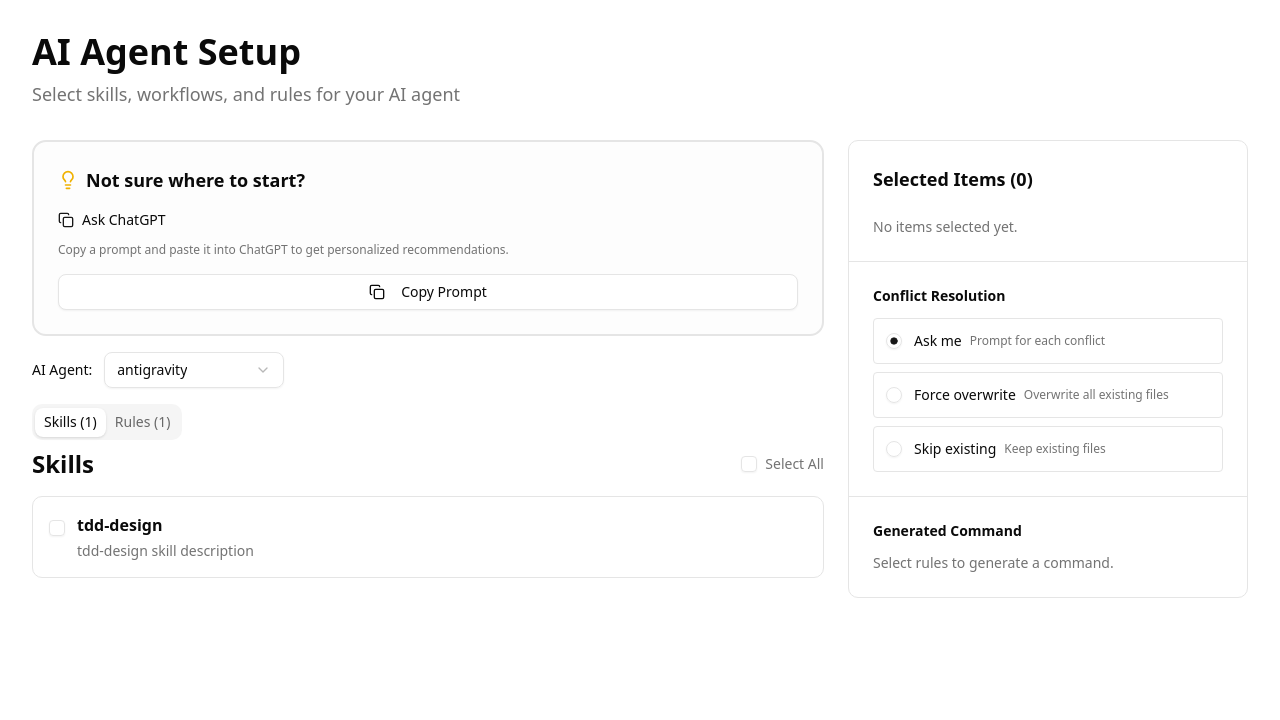
Test: Skills Display › should include selected skills in generated command
Note: Select the skill
Click the checkbox named "tdd-design".
click(57, 528)  # box [49,520,65,536]
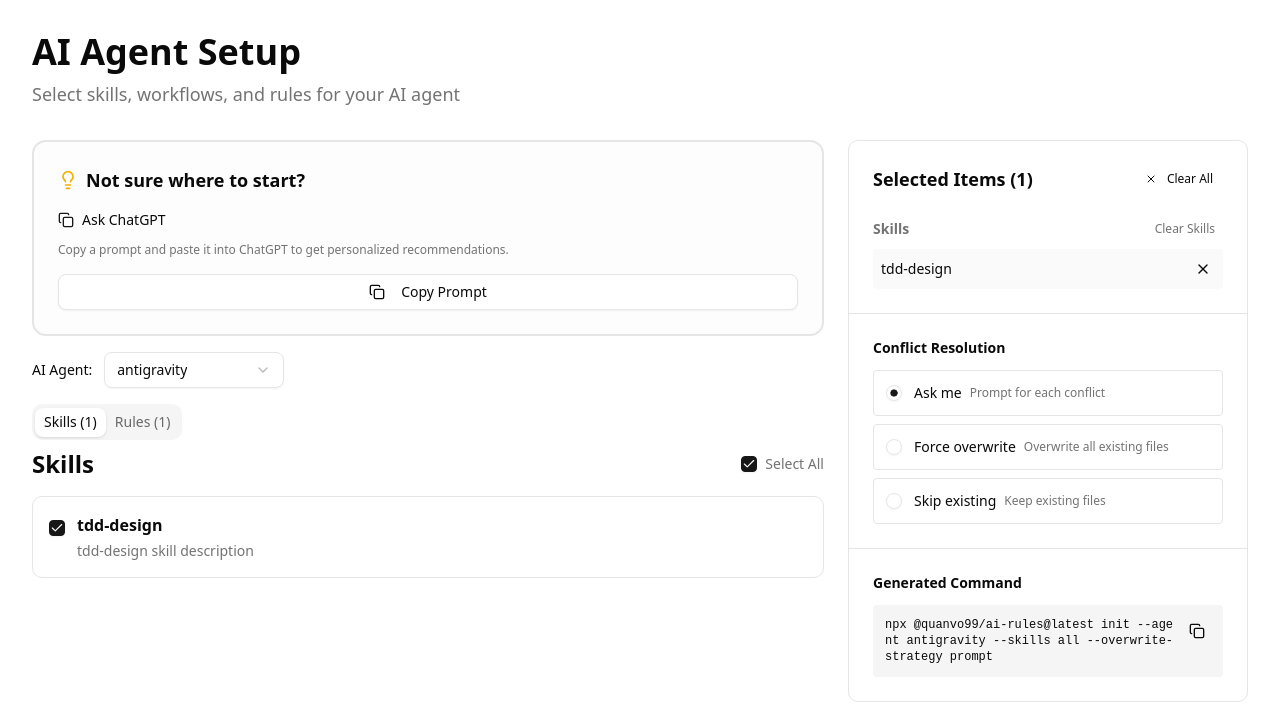
Expected: the text "--skills all" is shown, [885,618,1173,664]
